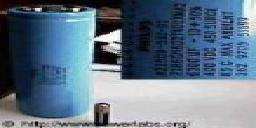Electrolytic-Capacitor: (9, 4, 93, 116)
